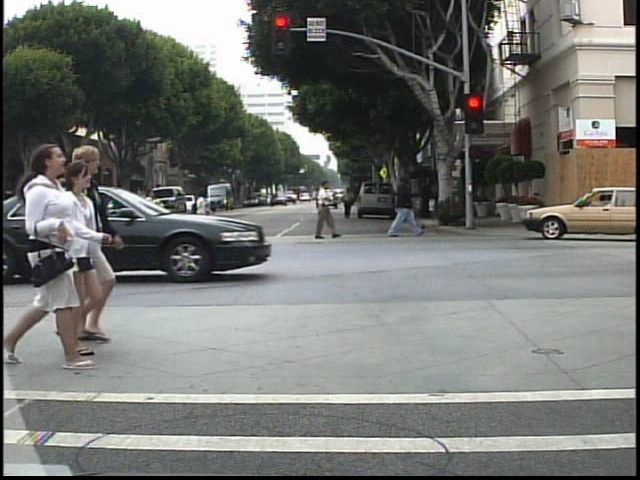person: (6, 144, 94, 375), (40, 162, 115, 365), (70, 146, 134, 350), (384, 167, 428, 240), (311, 176, 338, 240), (138, 188, 164, 251), (85, 189, 110, 246), (191, 184, 214, 243), (78, 183, 96, 247), (340, 185, 356, 220)
